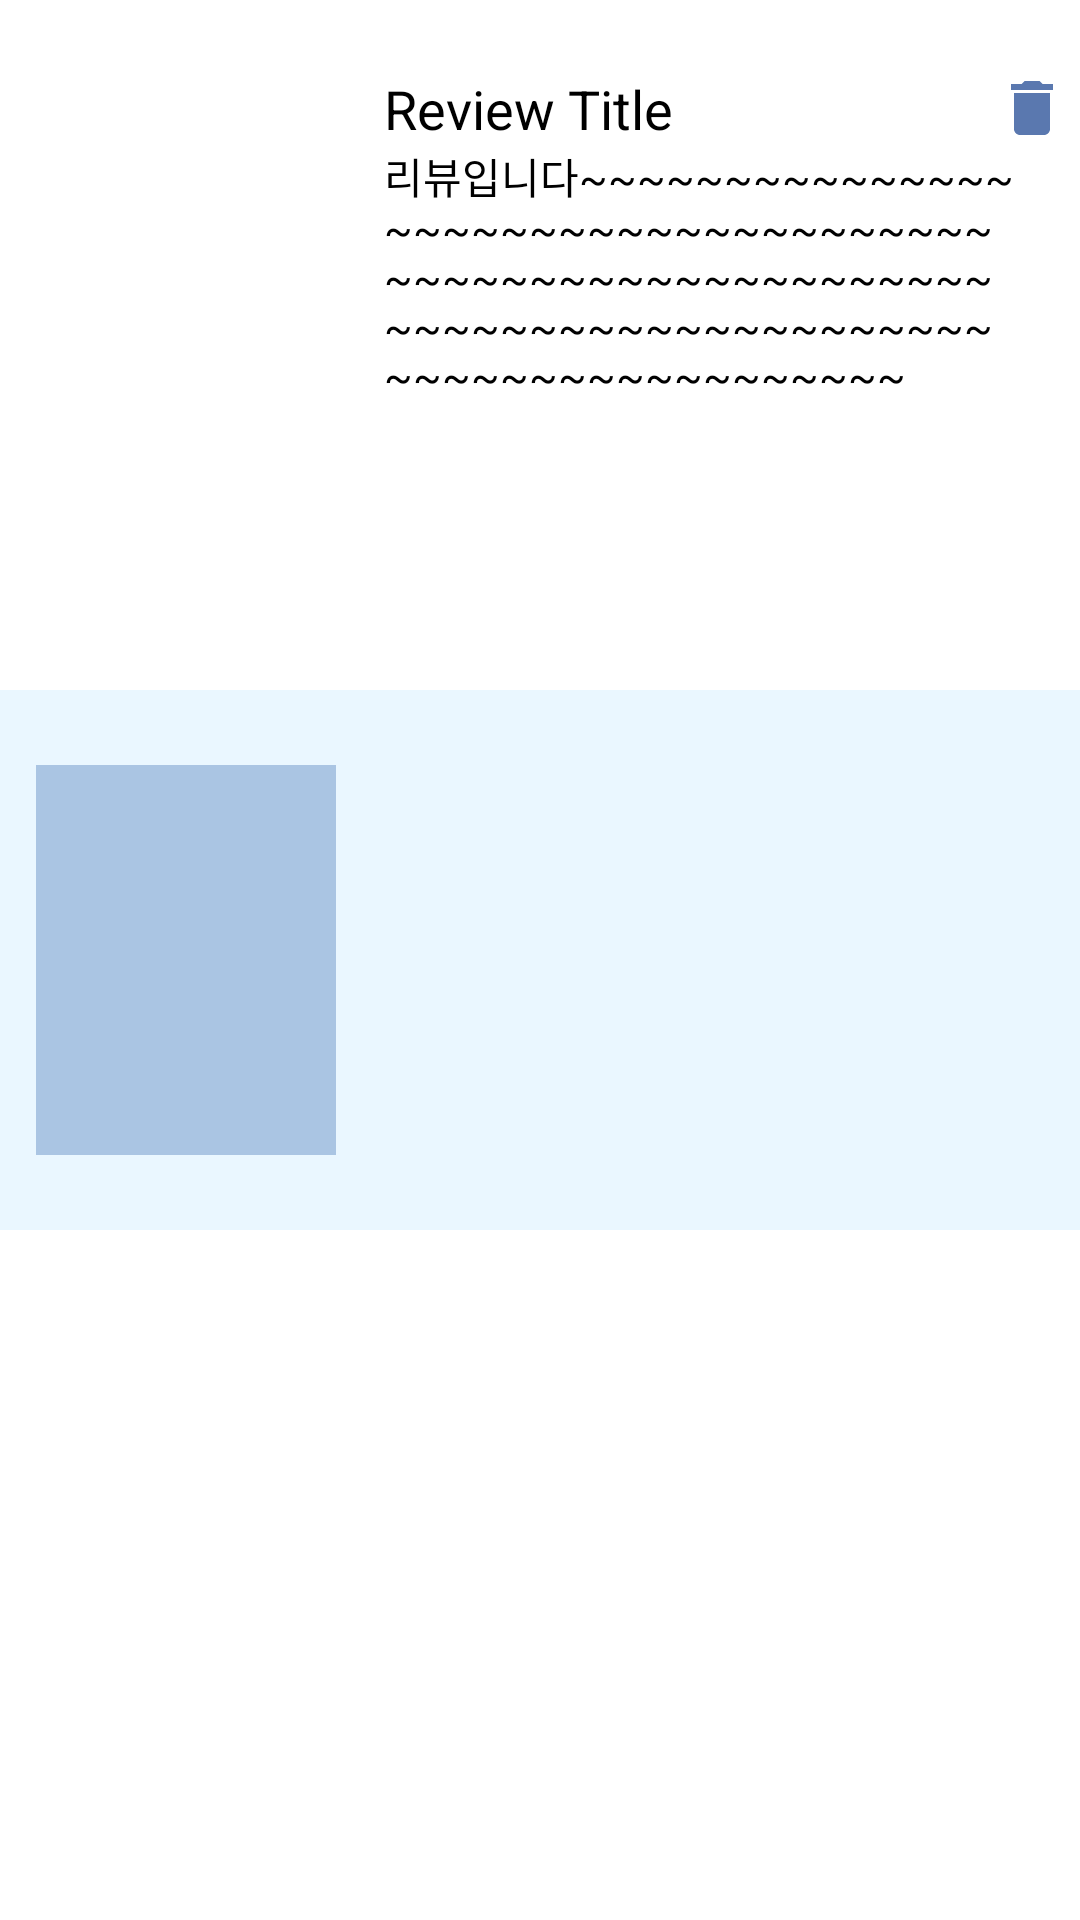

Icon bounding boxes for this 1080×1920 phone screenshot, format (x1,y1,x2,y2):
delete: (1011,81,1053,135)
